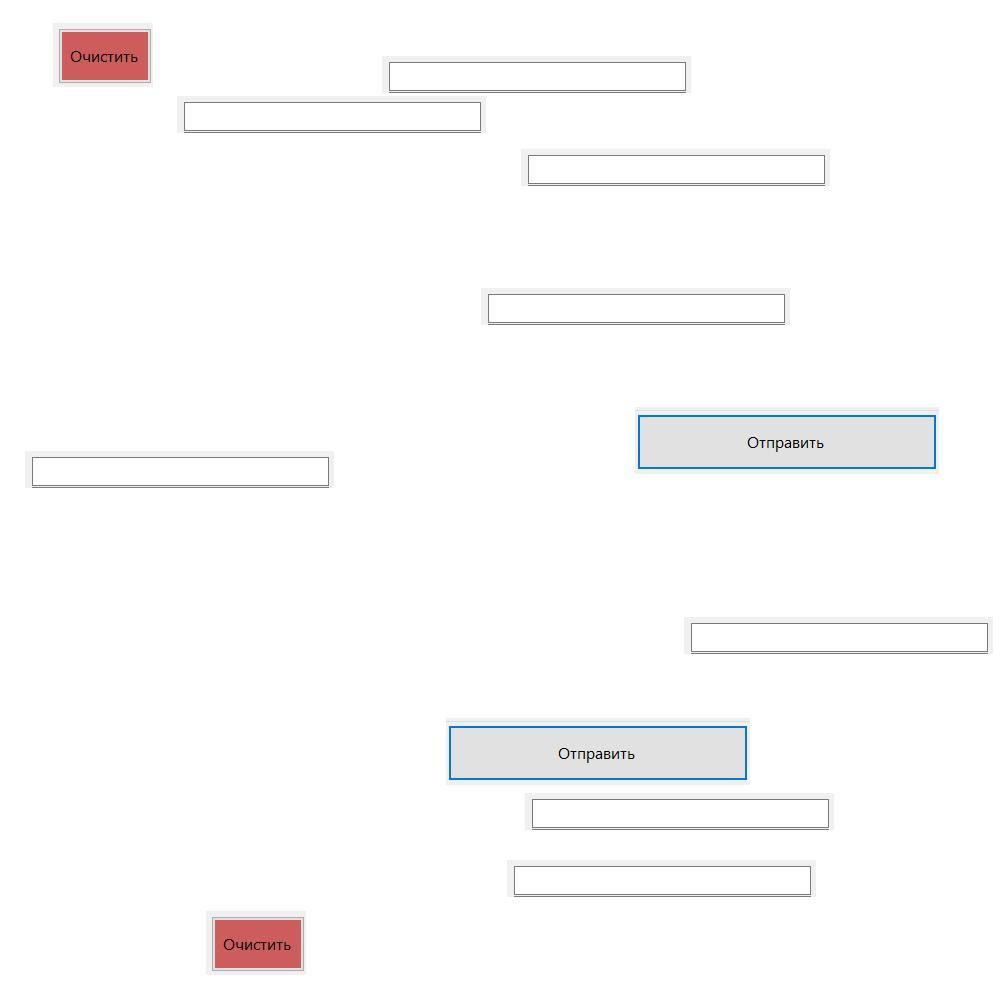Button: (446, 718, 750, 785), (635, 407, 939, 474), (206, 911, 306, 975), (53, 23, 153, 87)
EditText-: (684, 617, 993, 654), (25, 451, 334, 488), (521, 149, 830, 186), (177, 96, 486, 133), (525, 793, 834, 830), (382, 56, 691, 93), (481, 288, 790, 325), (507, 860, 816, 897)
